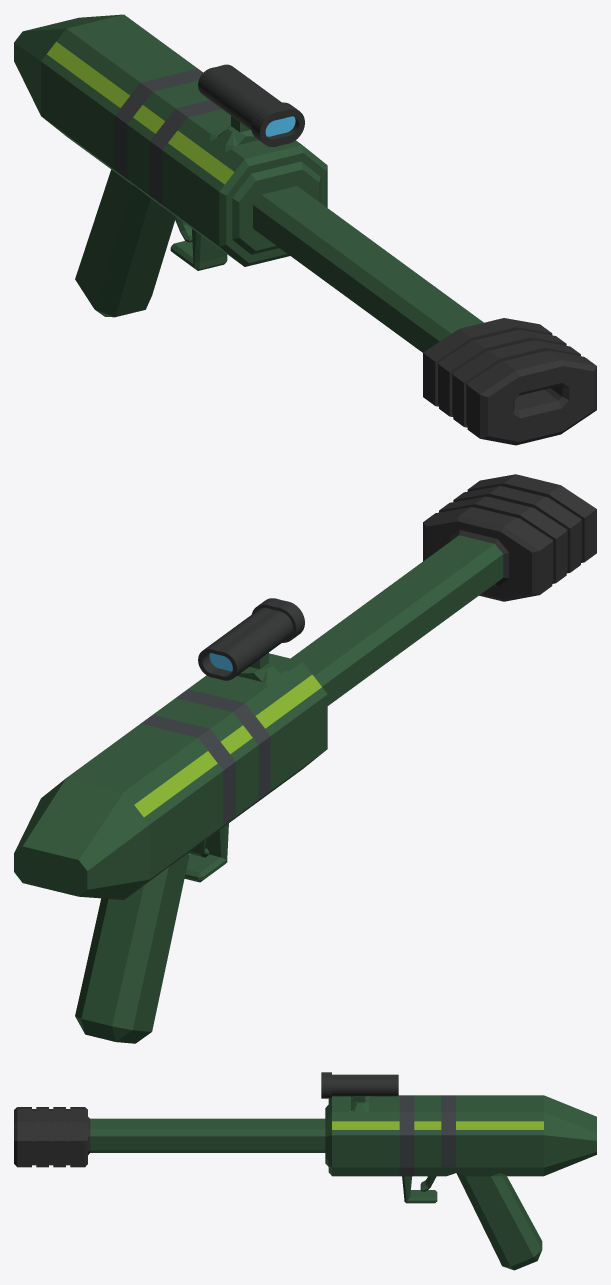
The model's file is snipeLaser.fbx.
The picture shows the model from 3 angles, top to bottom: view 1: azimuth 30°, elevation 25°; view 2: azimuth 150°, elevation 25°; view 3: azimuth 270°, elevation 25°; orthographic projection. The views are drawn at different scales.
Visible parts, largest first — view 1: Cube.001; view 2: Cube.001; view 3: Cube.001.
Part boxes in pixels (<box>): Cube.001: <box>14,14,596,445</box>; Cube.001: <box>14,474,596,1043</box>; Cube.001: <box>14,1072,596,1270</box>.
Bounding box in the file's own units: 122 × 884 × 319.
